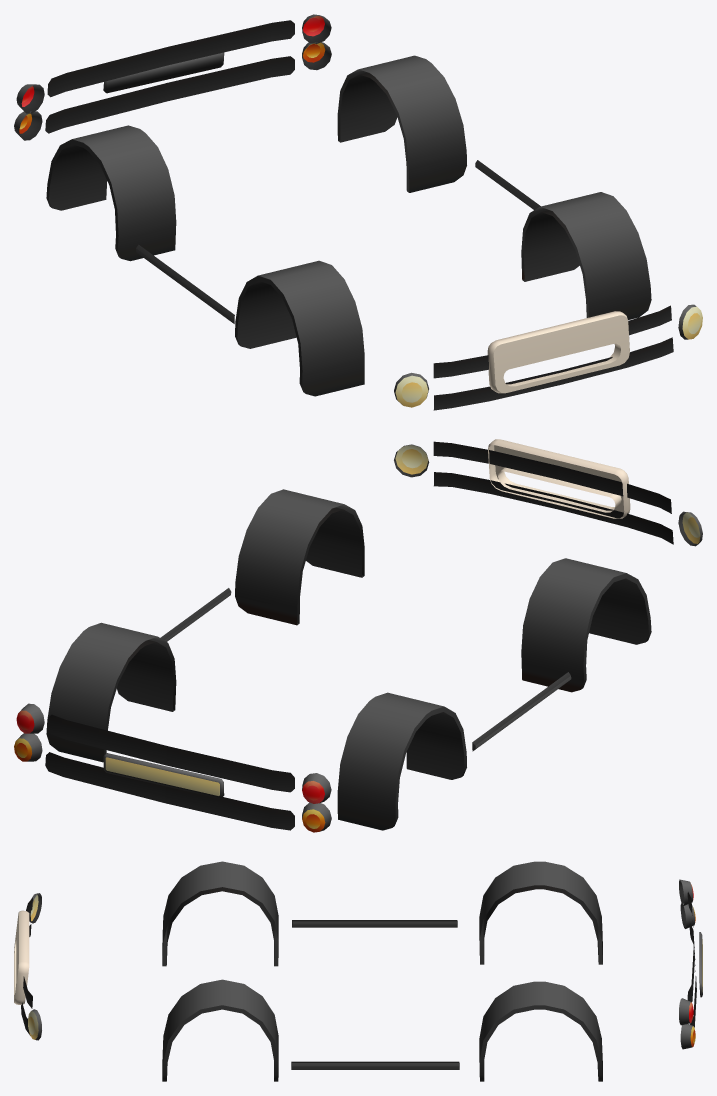
File: Van_additional_stuff.fbx
The picture shows the model from 3 angles, top to bottom: view 1: azimuth 30°, elevation 25°; view 2: azimuth 150°, elevation 25°; view 3: azimuth 270°, elevation 25°; orthographic projection. The views are drawn at different scales.
Parts seen in each view (by area): view 1: Van_additional_stuff; view 2: Van_additional_stuff; view 3: Van_additional_stuff.
Part boxes in pixels (x1,y1,x2,y2): Van_additional_stuff: (14, 14, 702, 410); Van_additional_stuff: (14, 439, 702, 832); Van_additional_stuff: (14, 861, 702, 1081).
Size of the model in its own units: 71.25 by 18.21 by 142.
